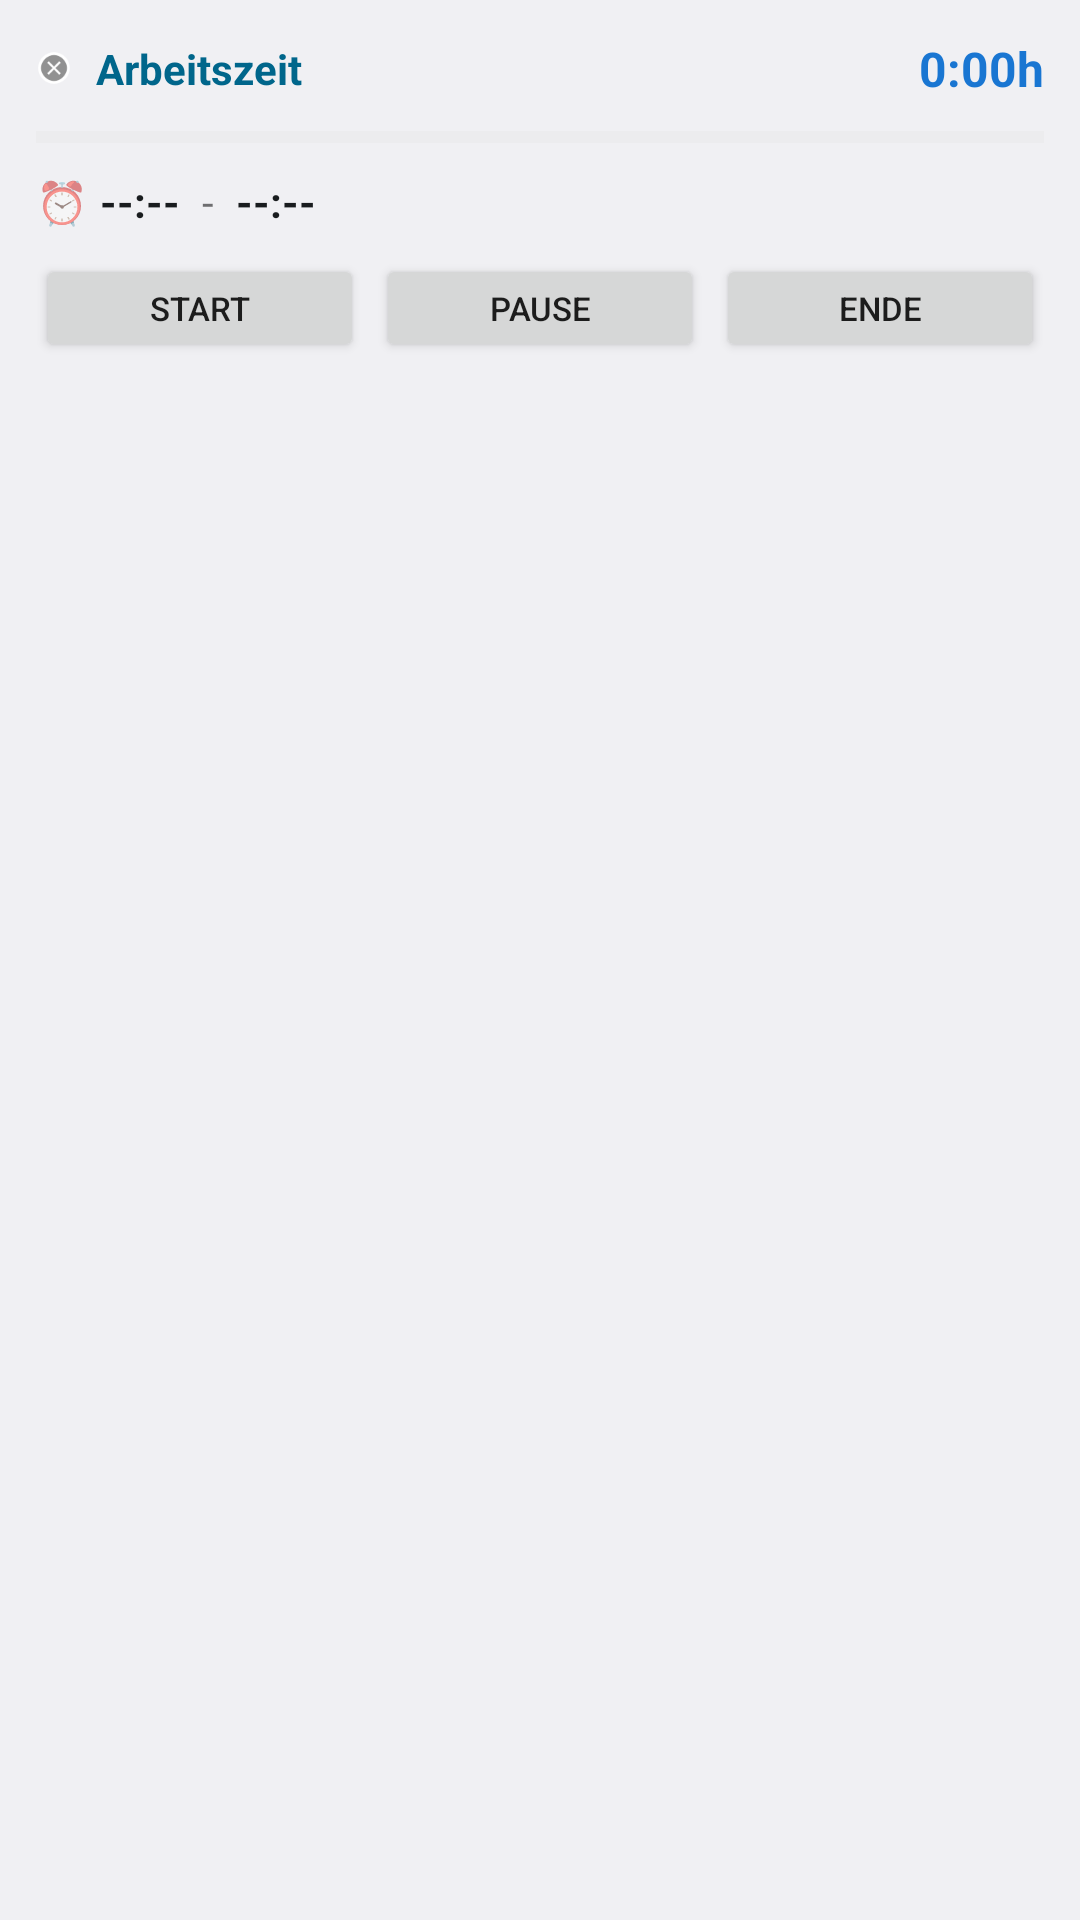

Screen size 1080 × 1920. Icon name, then its center in pixels as point (x, y):
presence offline: point (54, 68)
